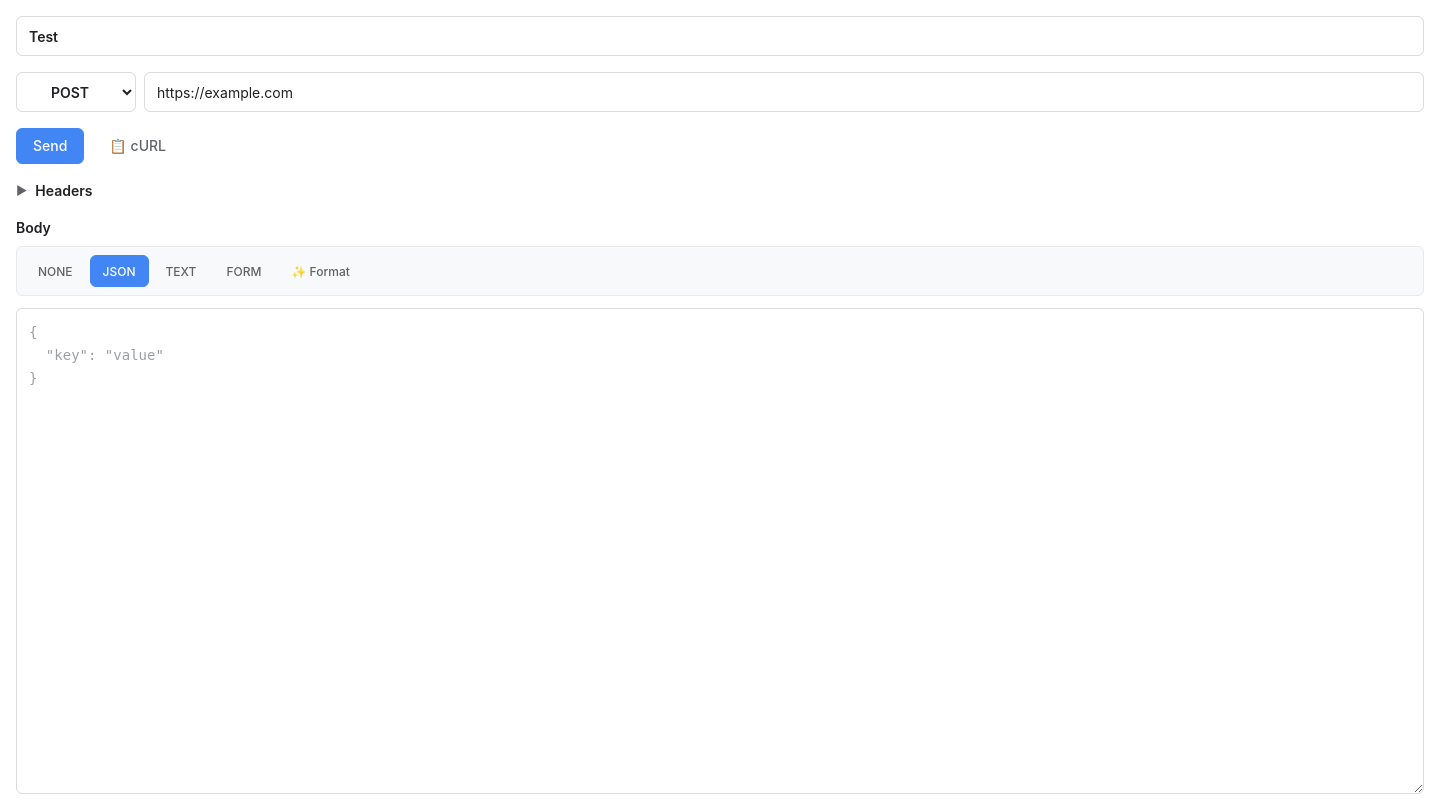
Test: JSON Formatting Feature › should show format button only when JSON body type is selected
expect the heading "Body" is shown: met, box [16,219,51,236]
expect the button "✨ Format" is shown: met, box [278,255,363,287]
Note: Switch to none type to hide format button
Click the button "NONE" at (55, 271), box [25,255,86,287]
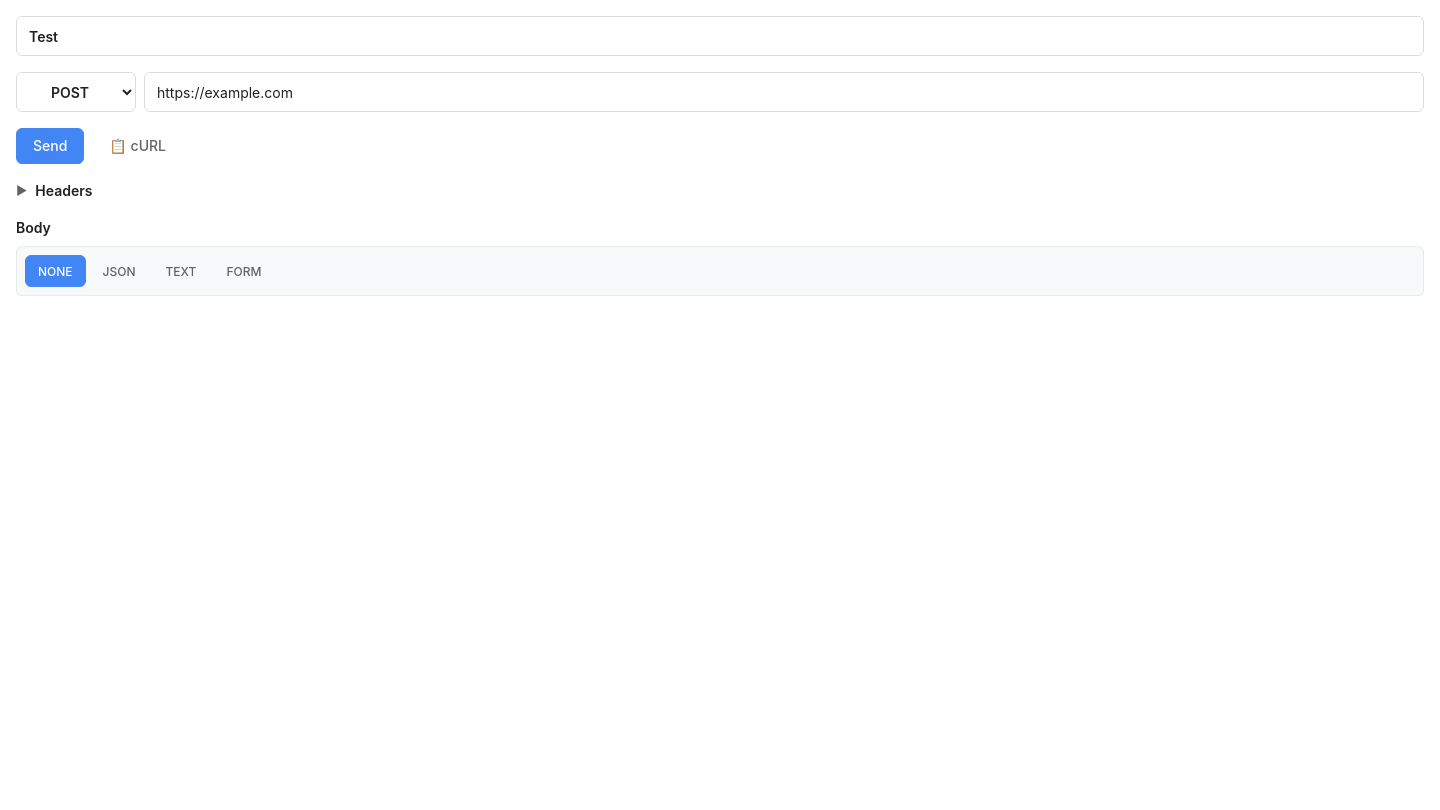
expect the button "✨ Format" is gone: met
Note: Select JSON type again
Click the button "JSON" at (119, 271), box [90,255,148,287]
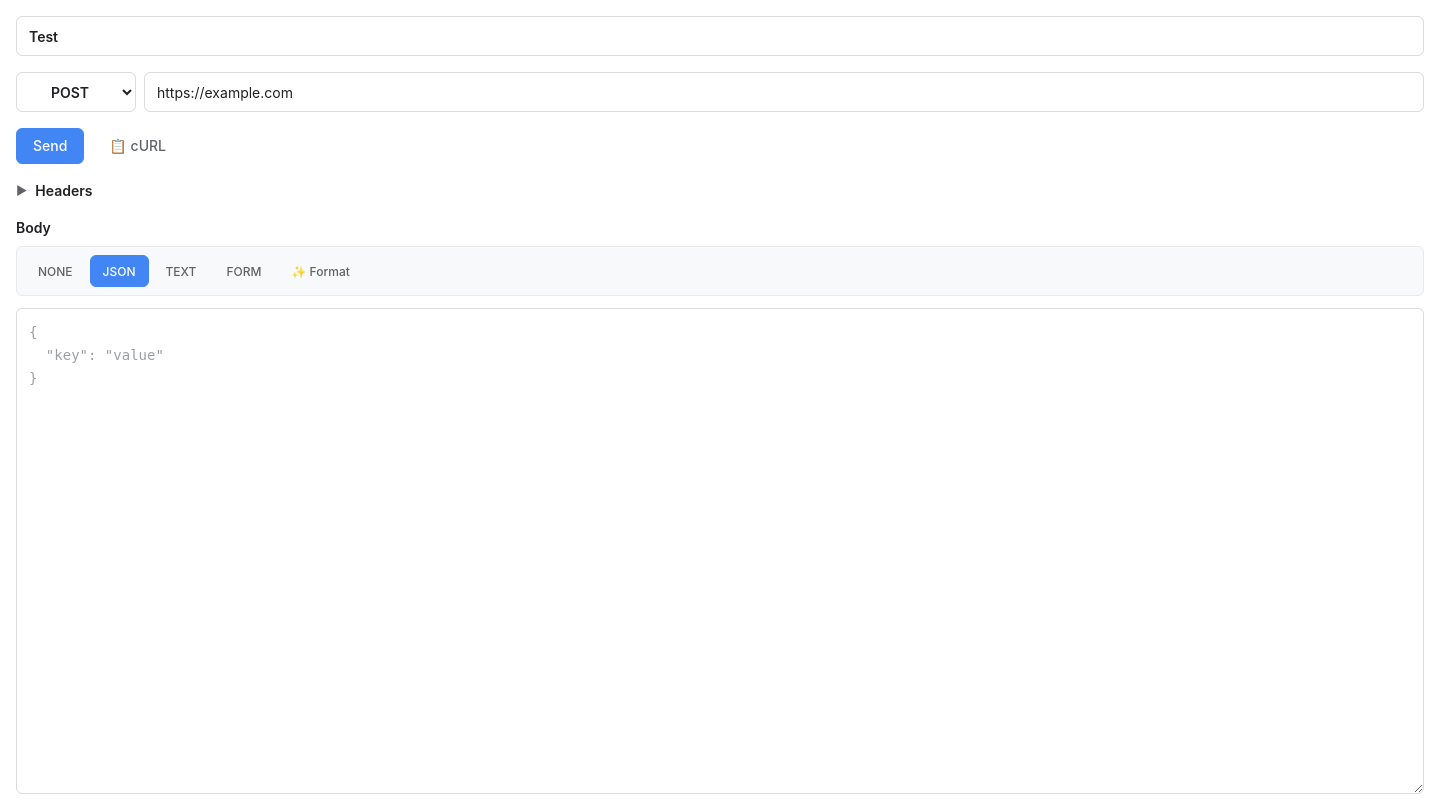
expect the button "✨ Format" is shown: met, box [278,255,363,287]
Note: Switch to text type
Click the button "TEXT" at (181, 271), box [152,255,209,287]
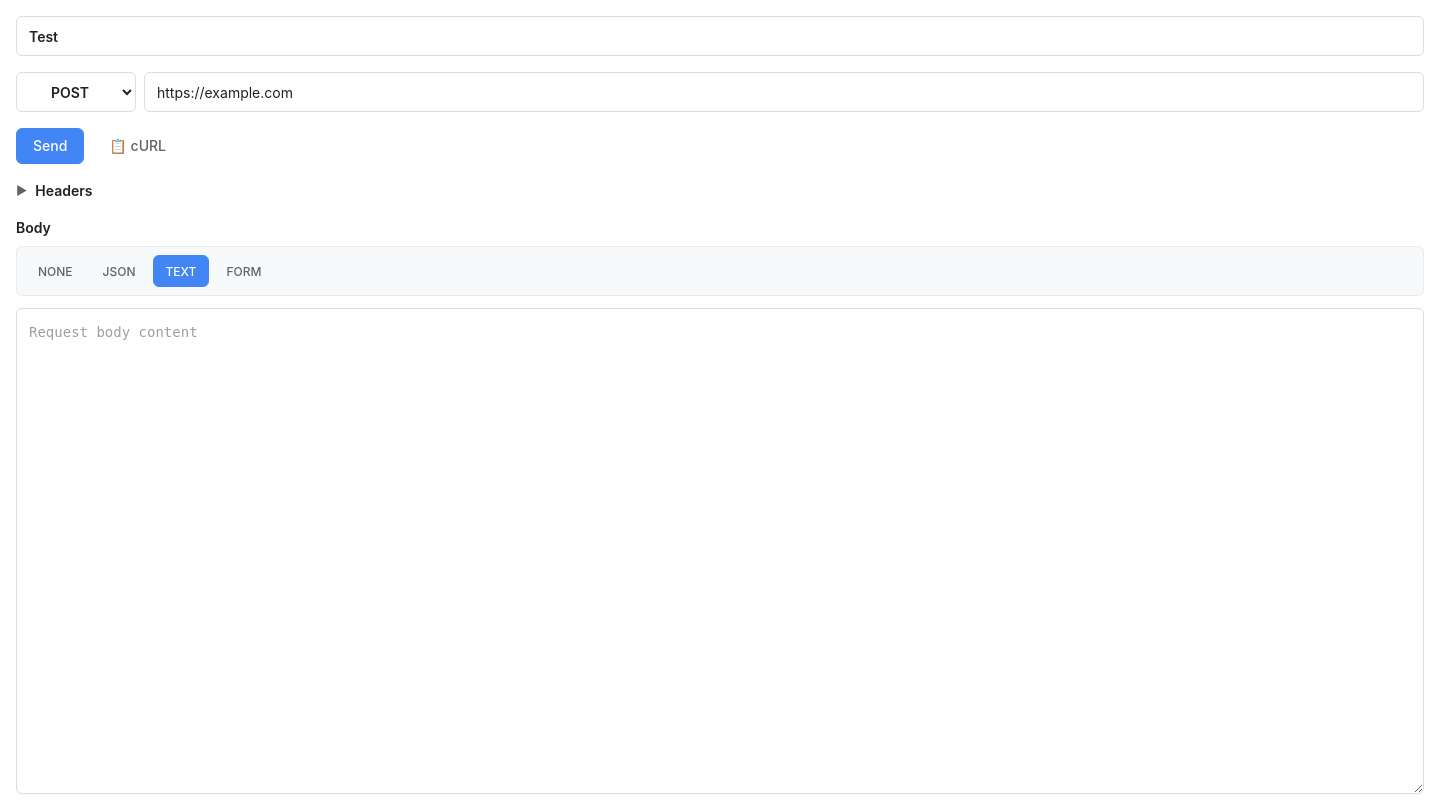
expect the button "✨ Format" is gone: met
